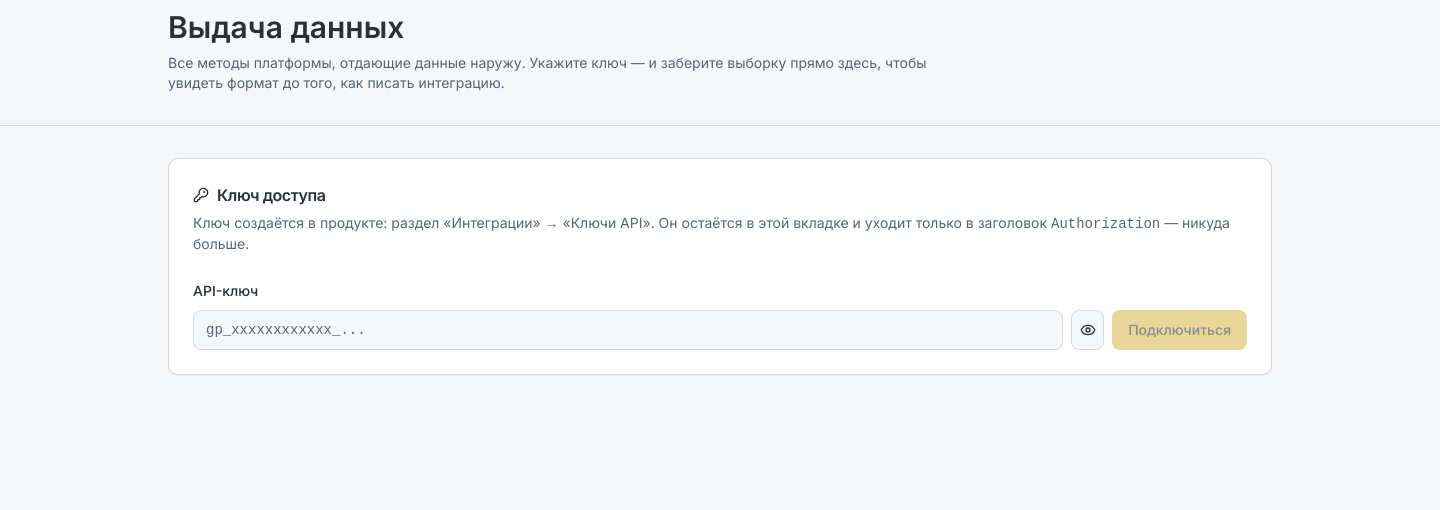
Test: консоль выдачи данных › отказ API показывается с кодом, а не молча
Type "gp_test_secret" into the password field labelled "API-ключ" at [628, 330], box [193,310,1063,350]
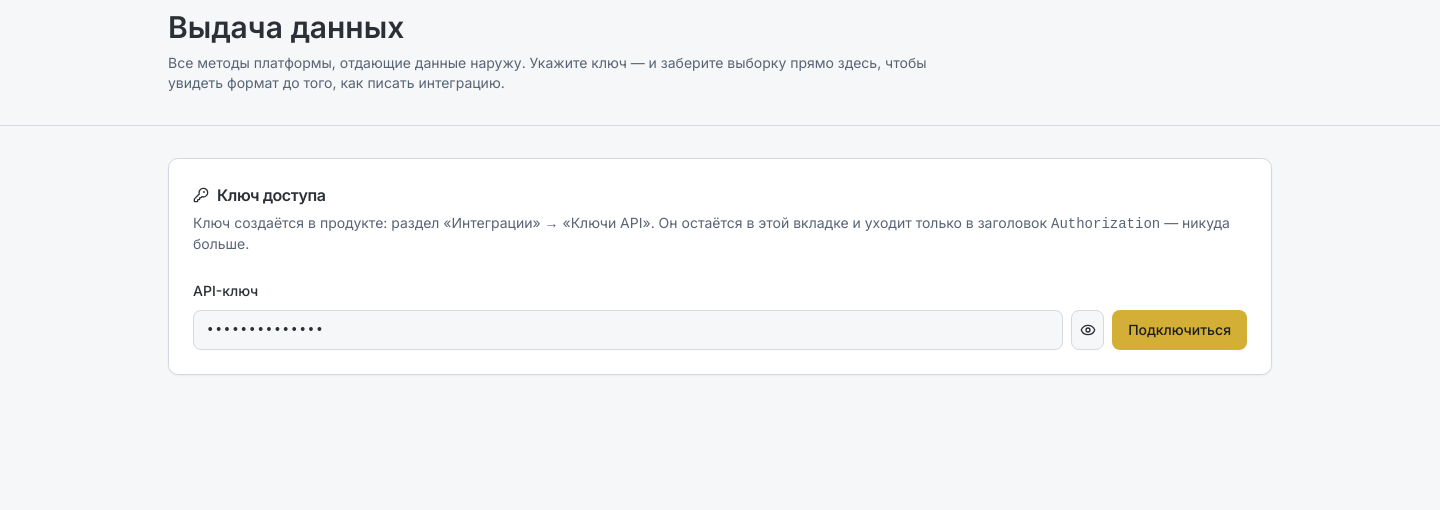
Click the button "Подключиться" at [1180, 330], box [1112,310,1247,350]
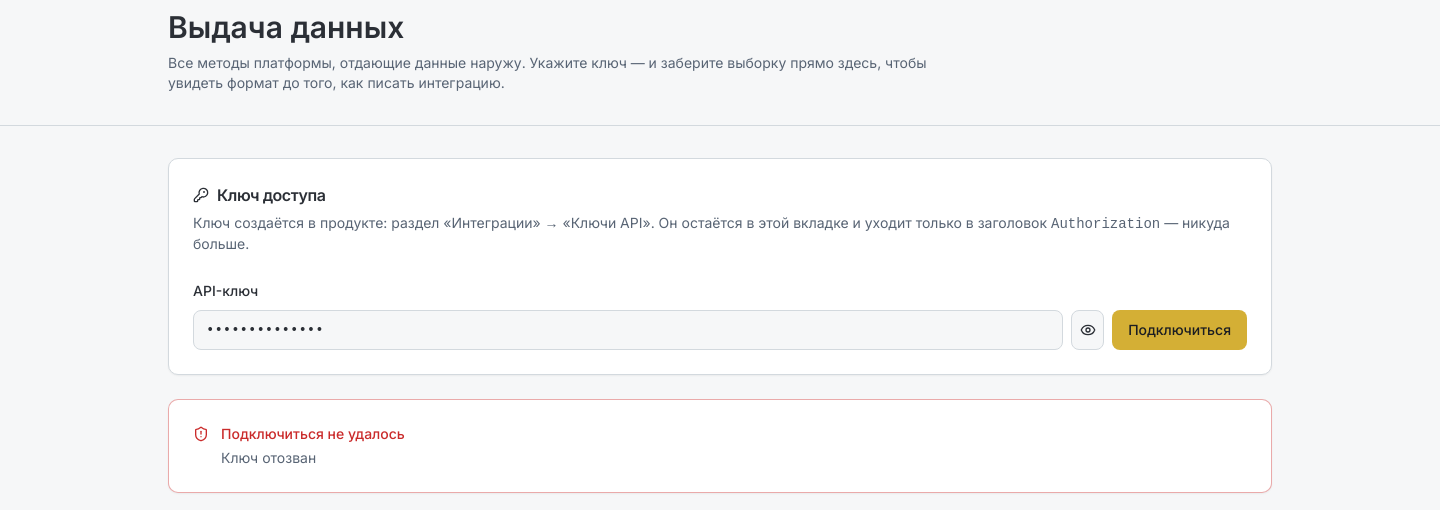
Expected: the text "Ключ отозван" is shown, [221,449,316,466]
Expected: the text "Подключиться не удалось" is shown, [221,424,405,444]
